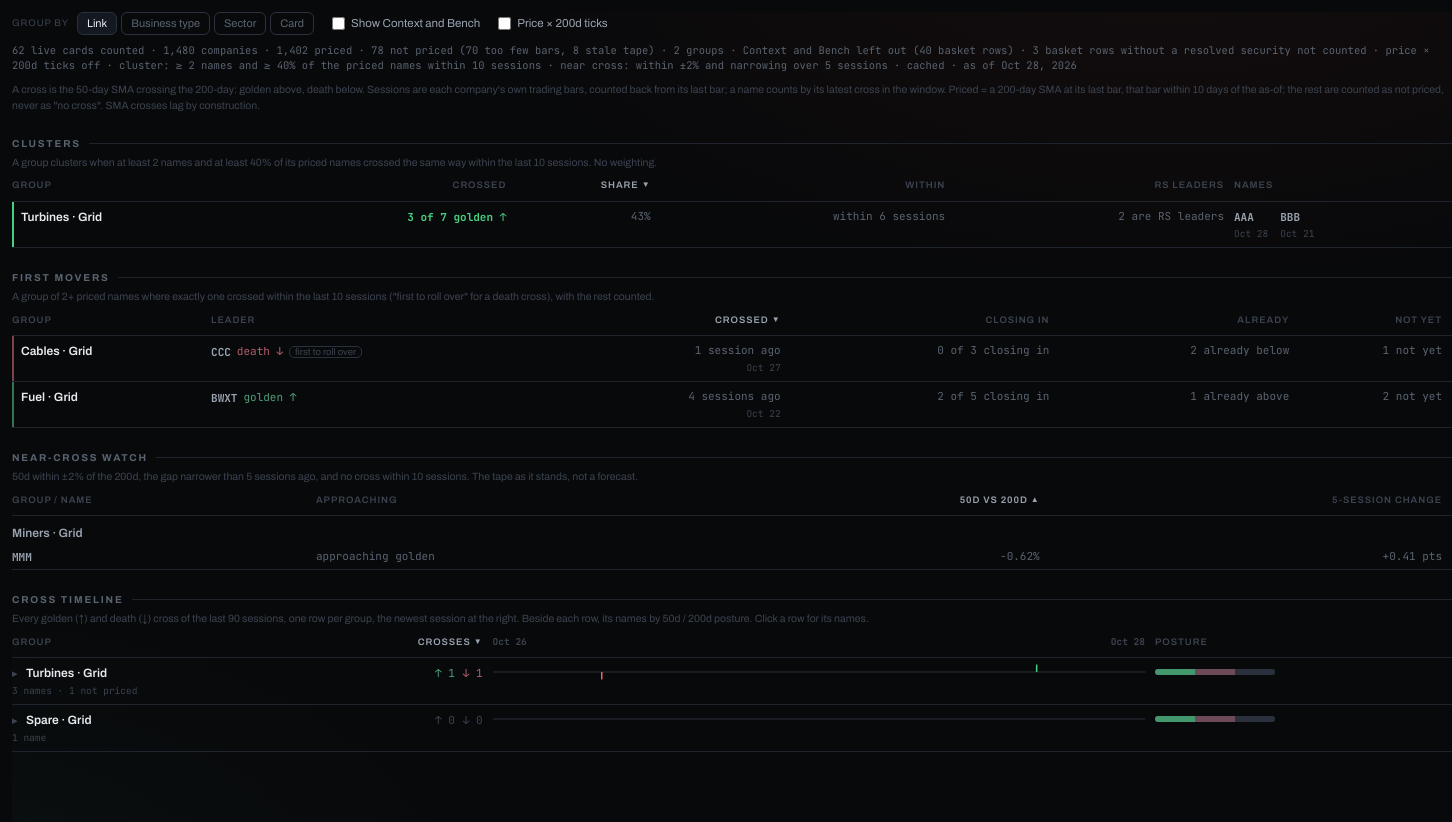
Scenario: Cross Radar — a timeline row's names › a click expands the row into its names with their cross dates, and a second click folds it
The width and height of the screenshot is (1452, 822).
Click the row "▸ Turbines · Grid 3 names · 1 not priced ↑ 1 ↓ 1": point(732, 681) [12,657,1451,705]
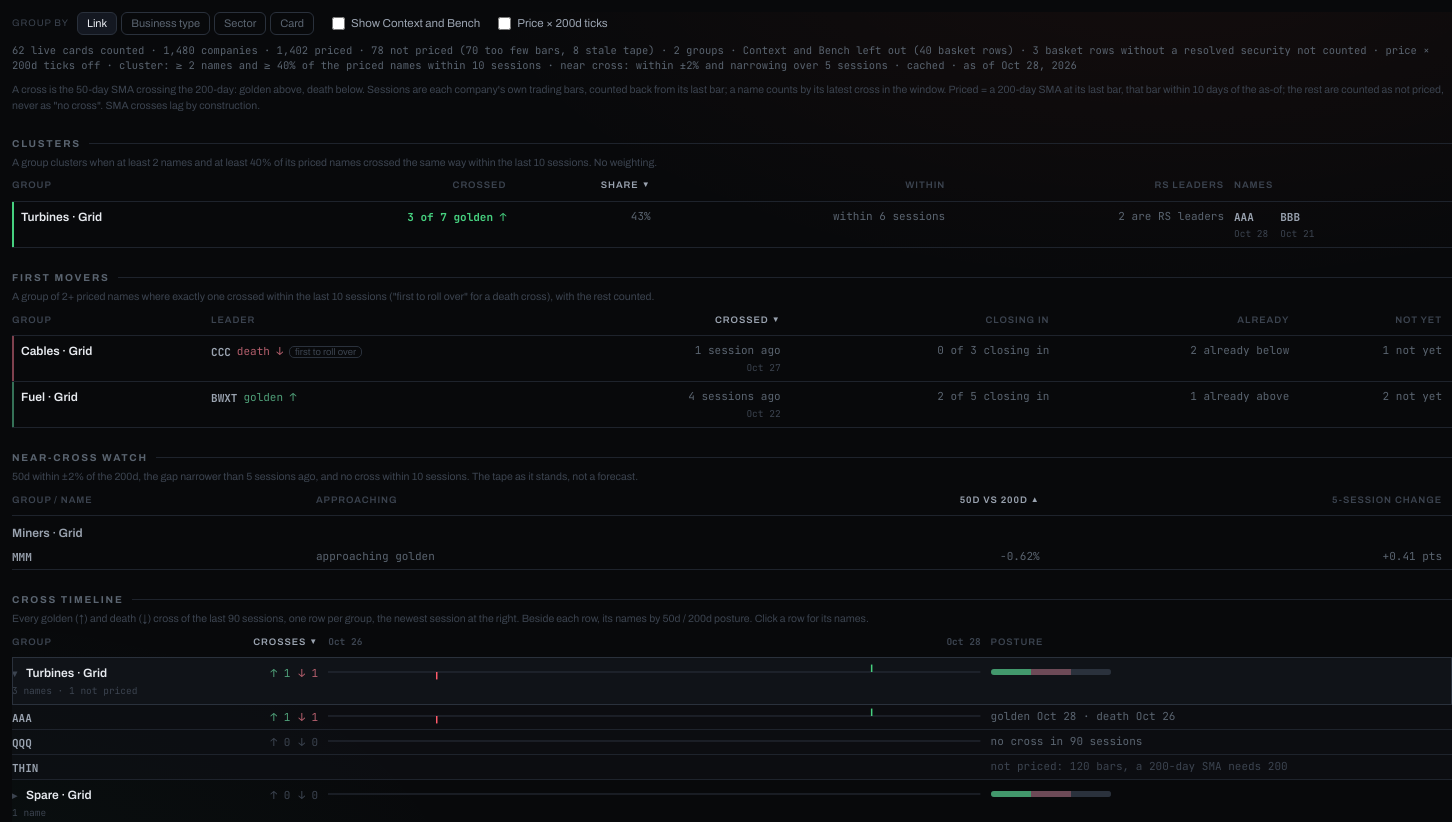
Expected: the row "▾ Turbines · Grid 3 names · 1 not priced ↑ 1 ↓ 1" is expanded
Expected: the text "golden Oct 28 · death Oct 26" is shown, [991,705,1451,730]
Expected: the text "no cross in 90 sessions" is shown, [991,730,1451,755]
Click the row "▾ Turbines · Grid 3 names · 1 not priced ↑ 1 ↓ 1": point(732, 681) [12,657,1451,705]
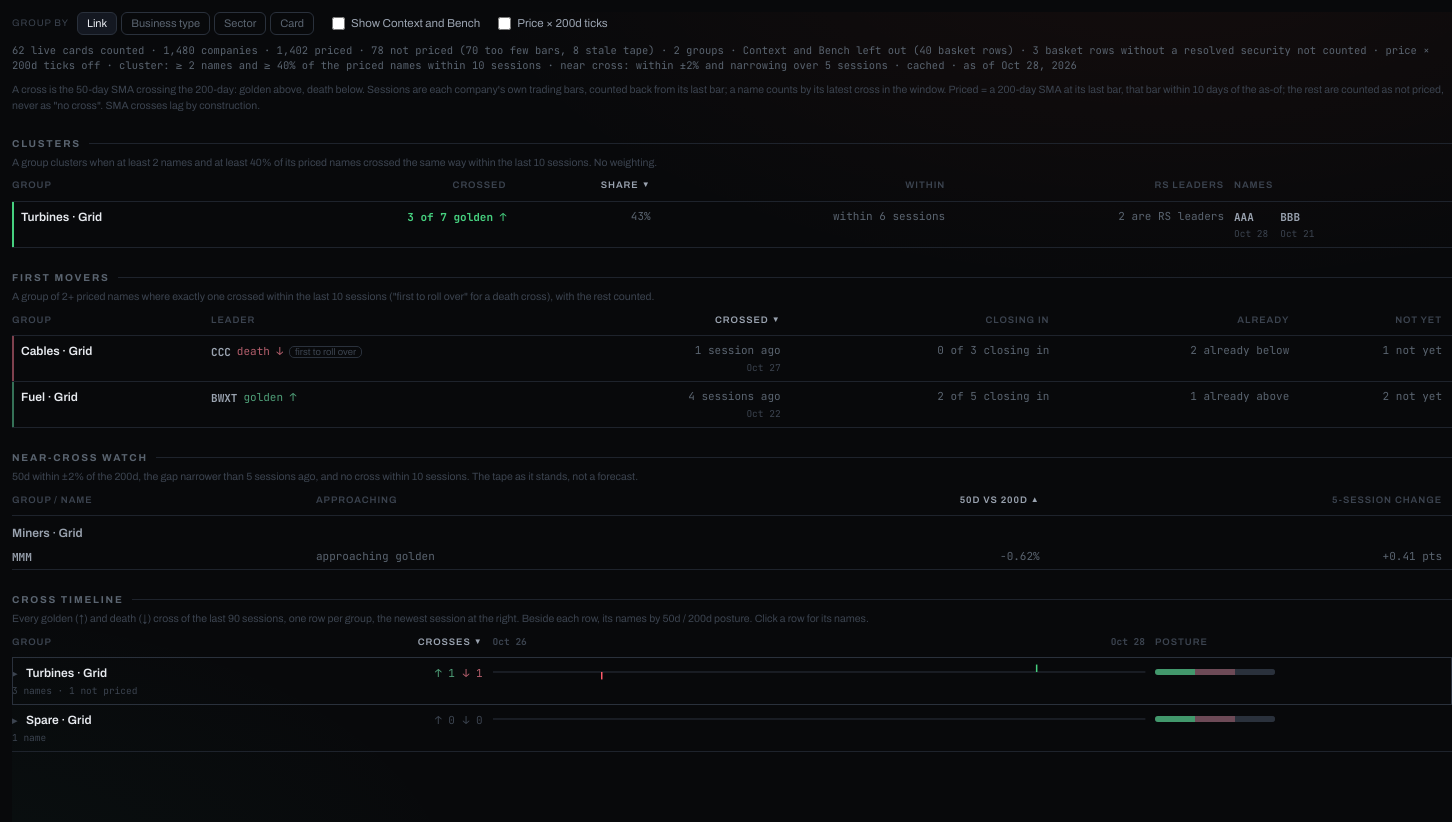
Expected: no rows with class "xr-tl-name" are shown
